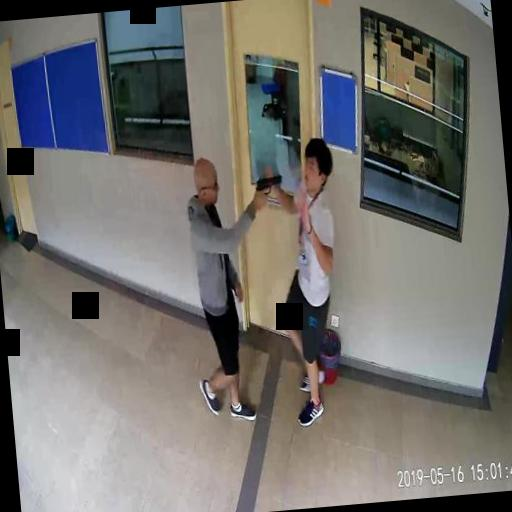Handgun: (254, 172, 282, 204)
